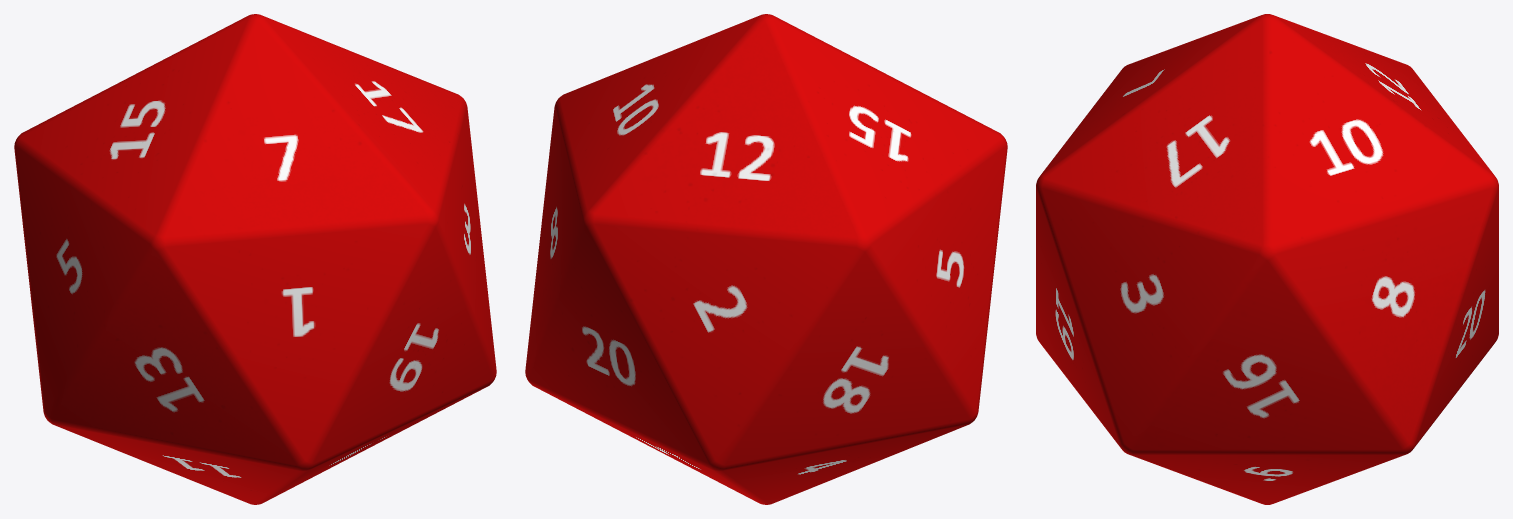
Rendered from dadoD20.fbx.
The picture shows the model from 3 angles, left to right: view 1: azimuth 30°, elevation 25°; view 2: azimuth 150°, elevation 25°; view 3: azimuth 270°, elevation 25°; orthographic projection.
Parts seen in each view (by area): view 1: D20; view 2: D20; view 3: D20.
Part boxes in pixels (left/top/right/bottom): D20: left=14, top=14, right=496, bottom=504; D20: left=525, top=14, right=1007, bottom=504; D20: left=1036, top=14, right=1498, bottom=504.
Bounding box in the file's own units: 4.92 × 5.45 × 4.69.
